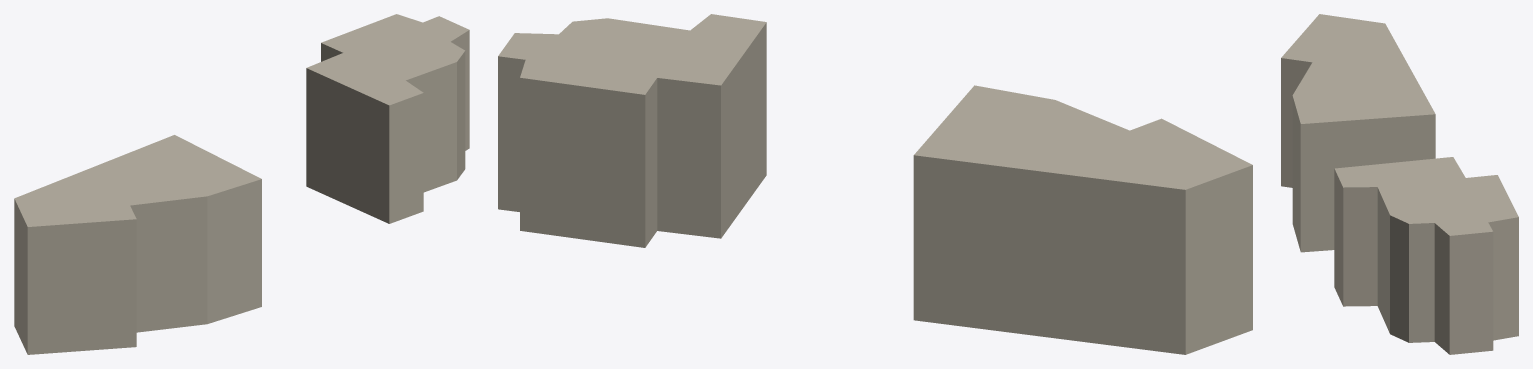
The model's file is kalkara_65_25_collision.glb.
3 views of the same model, side by side, from view 1: azimuth 30°, elevation 25°; view 2: azimuth 150°, elevation 25°; view 3: azimuth 270°, elevation 25° (orthographic). The views are drawn at different scales.
Parts seen in each view (by area): view 1: geometry_0; view 2: geometry_0; view 3: geometry_0.
Boxes of the visible parts, x1,y1,x2,y2 form: geometry_0: [14, 14, 469, 354]; geometry_0: [498, 14, 1252, 354]; geometry_0: [1281, 14, 1518, 354].
Bounding box in the file's own units: 55.43 × 16.09 × 22.46.
